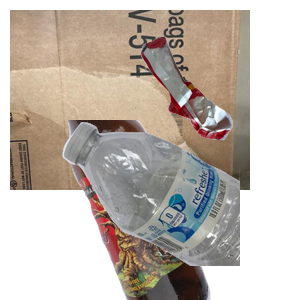cardboard: (10, 10, 250, 190)
glass: (65, 120, 300, 300)
plastic: (60, 120, 300, 300)
trash: (139, 34, 300, 167)
